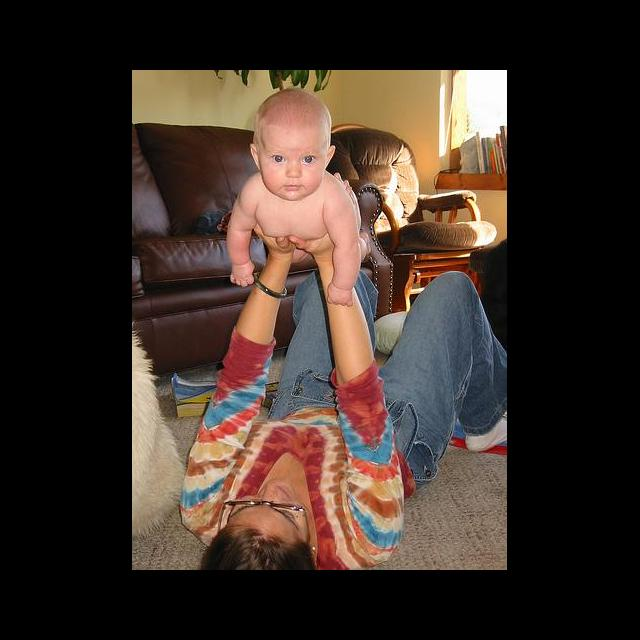NO-Hardhat: (205, 529, 311, 570), (256, 88, 331, 133)
NO-Mask: (266, 177, 319, 202), (257, 475, 298, 495)
NO-Safety Vest: (249, 403, 344, 495), (251, 181, 338, 243)
Person: (182, 231, 508, 570), (226, 87, 363, 307)
